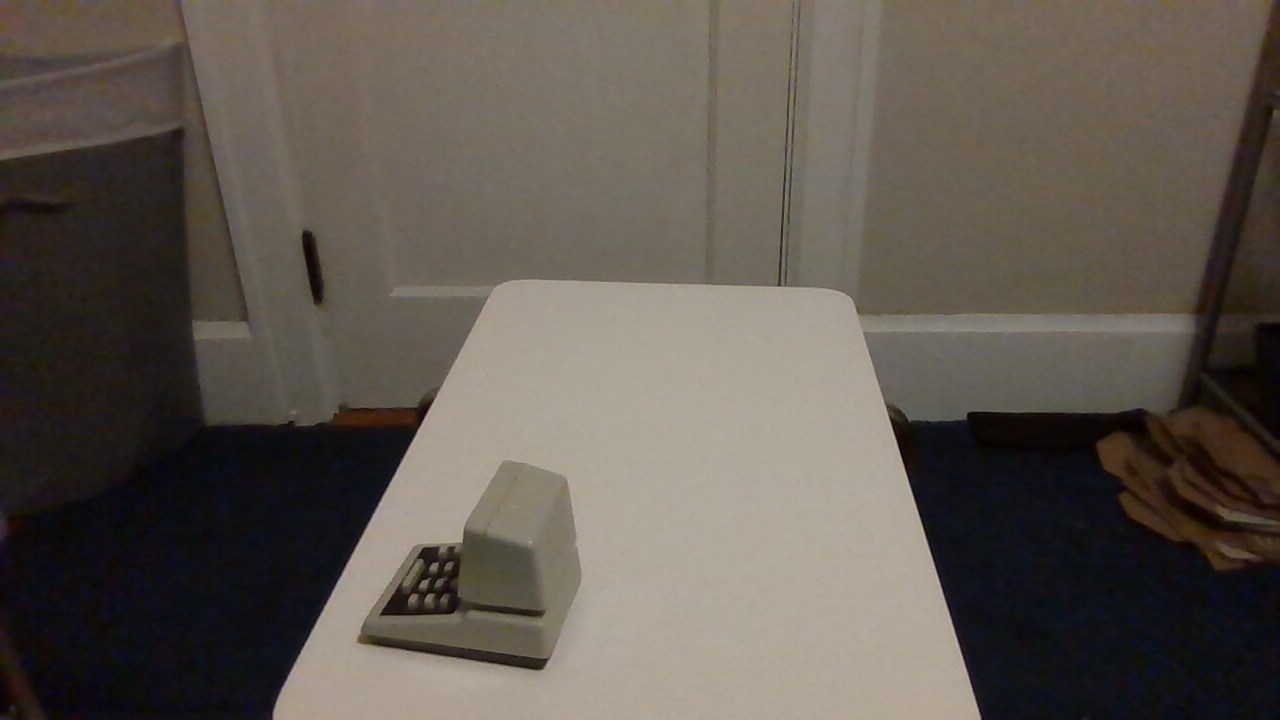Toy: (363, 461, 593, 677)
